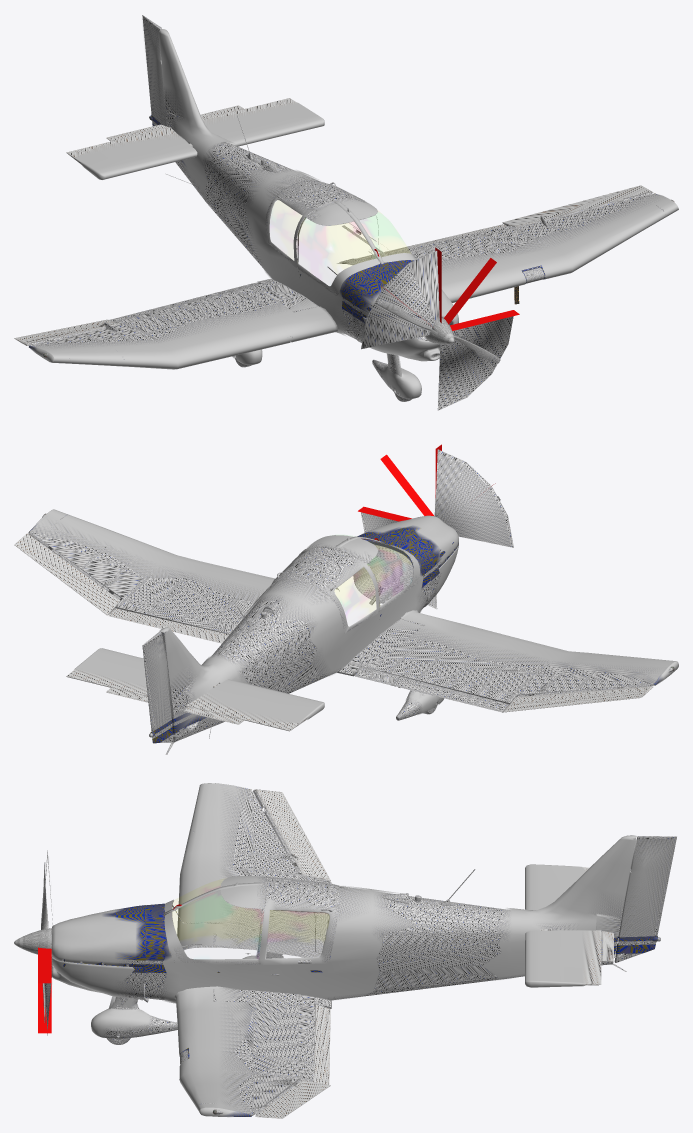
Rendered from DR400_LYCOMING_LOD02.gltf.
3 views of the same model, one above another, from view 1: azimuth 30°, elevation 25°; view 2: azimuth 150°, elevation 25°; view 3: azimuth 270°, elevation 25° (orthographic). The views are drawn at different scales.
Parts seen in each view (by area): view 1: high_fuselage_FROST, fuselage, nose_cone_slow, high_elevator_FROST, high_cabin_front_FROST, Livery_Fuselage, ELEVATOR_1, RUDDER_2, PROP_SIDE_BLUR, flap01_L, high_rudder_FROST, nose_cone_still_FROST (+3 smaller); view 2: fuselage, high_fuselage_FROST, nose_cone_slow, high_elevator_FROST, high_cabin_front_FROST, Livery_Fuselage, flap01_L, RUDDER_2, ELEVATOR_1, flap01_R, flap_r, high_rudder_FROST (+5 smaller); view 3: high_fuselage_FROST, fuselage, high_elevator_FROST, high_cabin_front_FROST, RUDDER_2, high_rudder_FROST, Livery_Fuselage, flap01_R, high_C_GEAR_FROST, flap01_L, flap_l, ELEVATOR_1 (+5 smaller).
Part boxes in pixels (box(x1,y1,x2,y2)): high_fuselage_FROST: box(30, 29, 678, 369); fuselage: box(29, 30, 671, 360); nose_cone_slow: box(361, 250, 513, 410); high_elevator_FROST: box(75, 102, 324, 179); high_cabin_front_FROST: box(266, 186, 415, 294); Livery_Fuselage: box(29, 160, 659, 350); ELEVATOR_1: box(66, 98, 296, 165); RUDDER_2: box(142, 15, 166, 126); PROP_SIDE_BLUR: box(383, 247, 519, 330); flap01_L: box(502, 185, 653, 227); high_rudder_FROST: box(143, 23, 165, 119); nose_cone_still_FROST: box(378, 302, 496, 358); fuselage: box(28, 514, 672, 754); high_fuselage_FROST: box(31, 509, 678, 729); nose_cone_slow: box(361, 449, 513, 609); high_elevator_FROST: box(74, 648, 324, 722); high_cabin_front_FROST: box(272, 535, 420, 633); Livery_Fuselage: box(28, 524, 662, 733); flap01_L: box(14, 533, 120, 615); RUDDER_2: box(142, 632, 179, 742); ELEVATOR_1: box(66, 669, 308, 731); flap01_R: box(502, 686, 653, 712); flap_r: box(355, 666, 508, 712); high_rudder_FROST: box(147, 638, 171, 721); high_fuselage_FROST: box(51, 783, 637, 1116); fuselage: box(51, 788, 635, 1115); high_elevator_FROST: box(525, 864, 598, 987); high_cabin_front_FROST: box(164, 876, 336, 965); RUDDER_2: box(614, 836, 676, 962); high_rudder_FROST: box(620, 843, 671, 933); Livery_Fuselage: box(63, 787, 617, 1116); flap01_R: box(256, 789, 330, 880); high_C_GEAR_FROST: box(91, 1008, 152, 1037); flap01_L: box(255, 1080, 330, 1118); flap_l: box(314, 1004, 330, 1084); ELEVATOR_1: box(541, 867, 601, 985).
Size of what is drawn, in the model's own units: 8.67 by 2.56 by 7.42.
